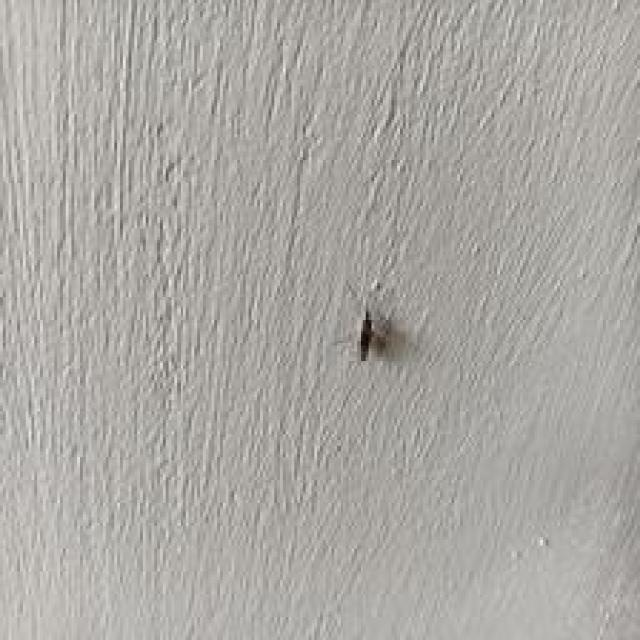Culex: (356, 309, 376, 360)
